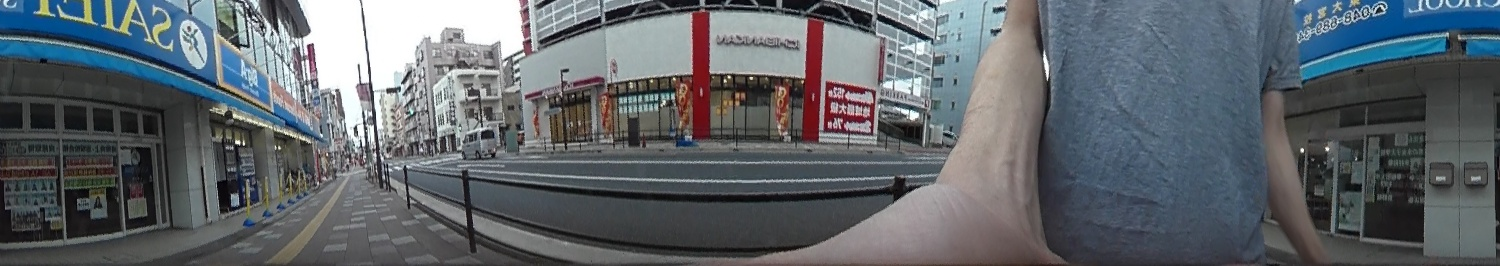difficult_person: (326, 153, 338, 179)
